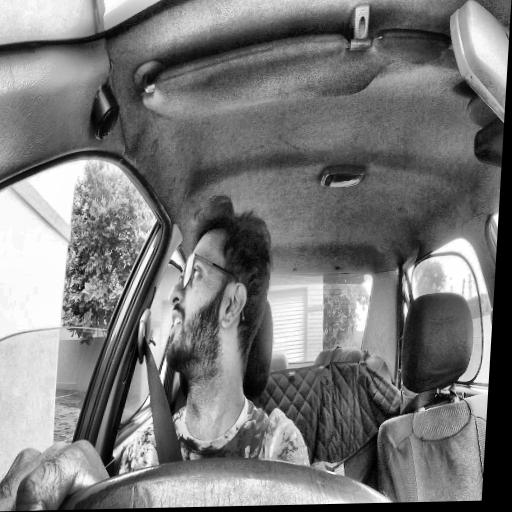awake: (163, 195, 277, 388)
